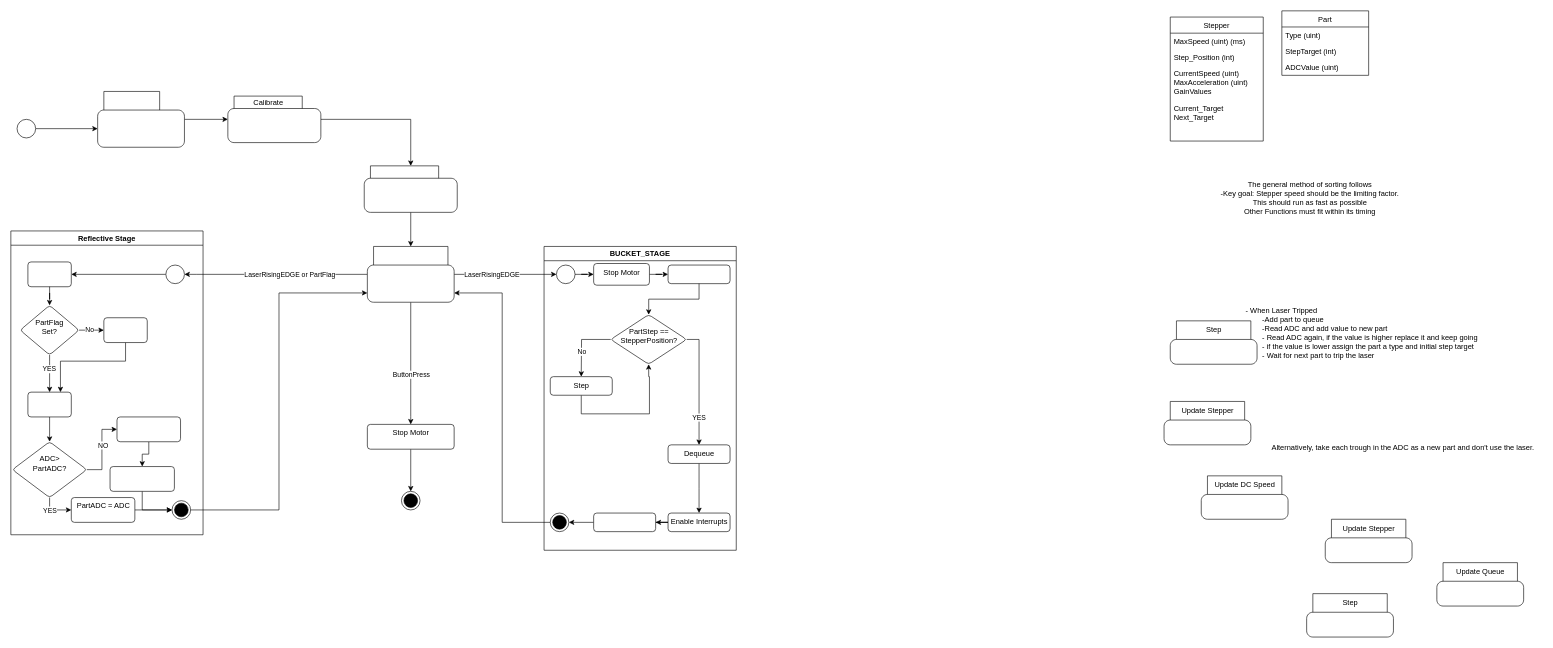
Image size: 1553x648. Some labels were removed from this diagram. Each missing label, with the centre of its shape:
"Assign PartType Assign PartStep" belongs at point 148,429.
"Disable Interrupts" belongs at point 698,274.
"Enqueue Set PartFlag" belongs at point 125,330.
"Initialize" belongs at point 140,119.
"POLLING" belongs at point 410,274.
"Read ADC" belongs at point 49,404.
"Reset Part Flag" belongs at point 141,478.
"Start ADC" belongs at point 49,274.
"Start belt" belongs at point 410,188.
"Start Motor" belongs at point 624,522.
